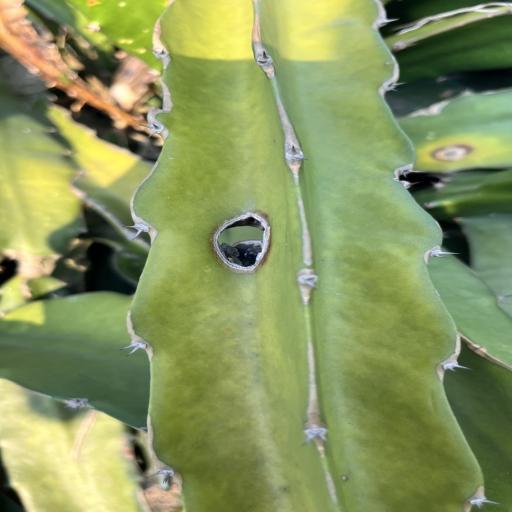stemcanker: (334, 472, 363, 488)
